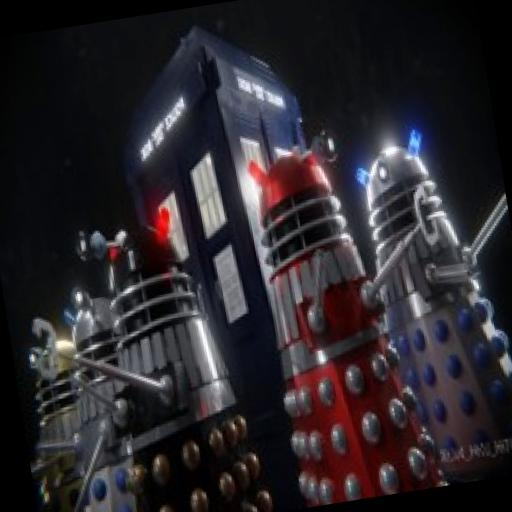dalek: (244, 119, 476, 508), (13, 196, 272, 512), (350, 109, 512, 491), (25, 282, 153, 512), (10, 333, 103, 512)
